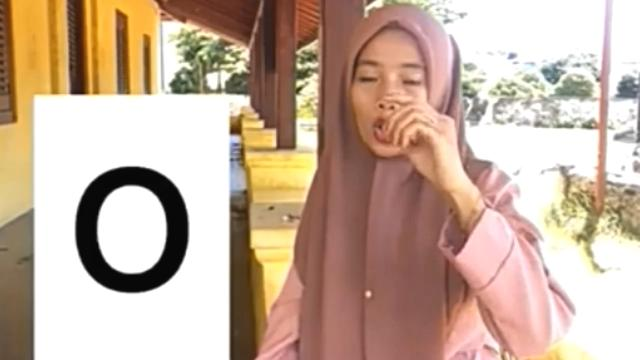O: (382, 100, 458, 190)
